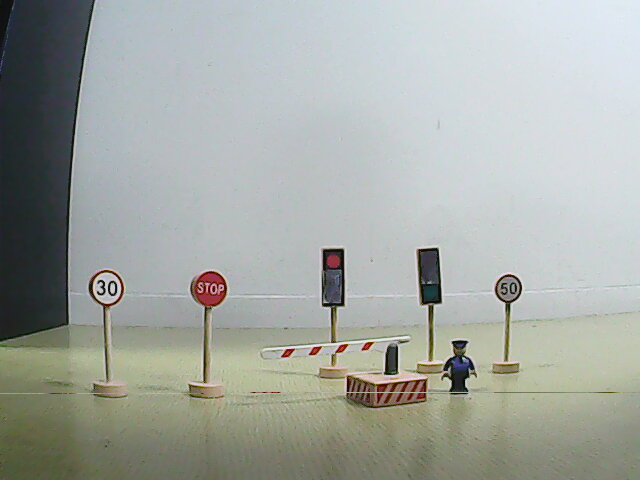barrier: (257, 334, 432, 410)
green_traffic_sign: (415, 246, 444, 306)
person: (439, 339, 480, 396)
red_traffic_sign: (320, 248, 347, 307)
sign_30: (89, 268, 127, 307)
sign_50: (491, 273, 523, 304)
stop_sign: (187, 269, 230, 310)
